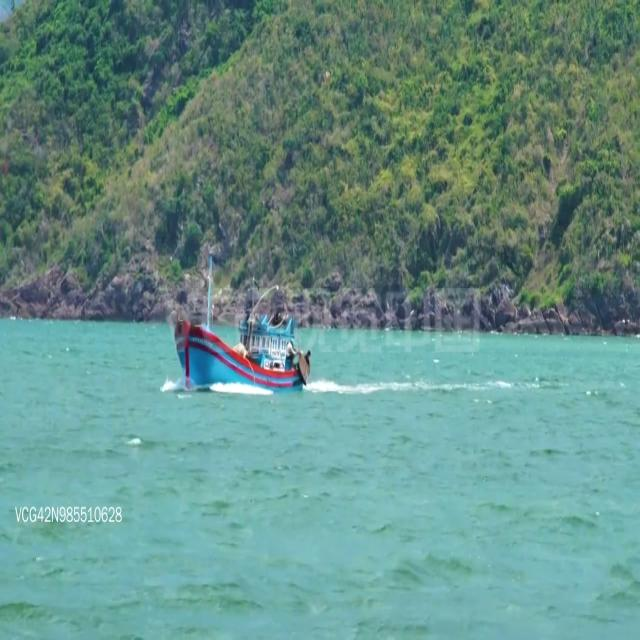fishing boat: (171, 251, 311, 402)
